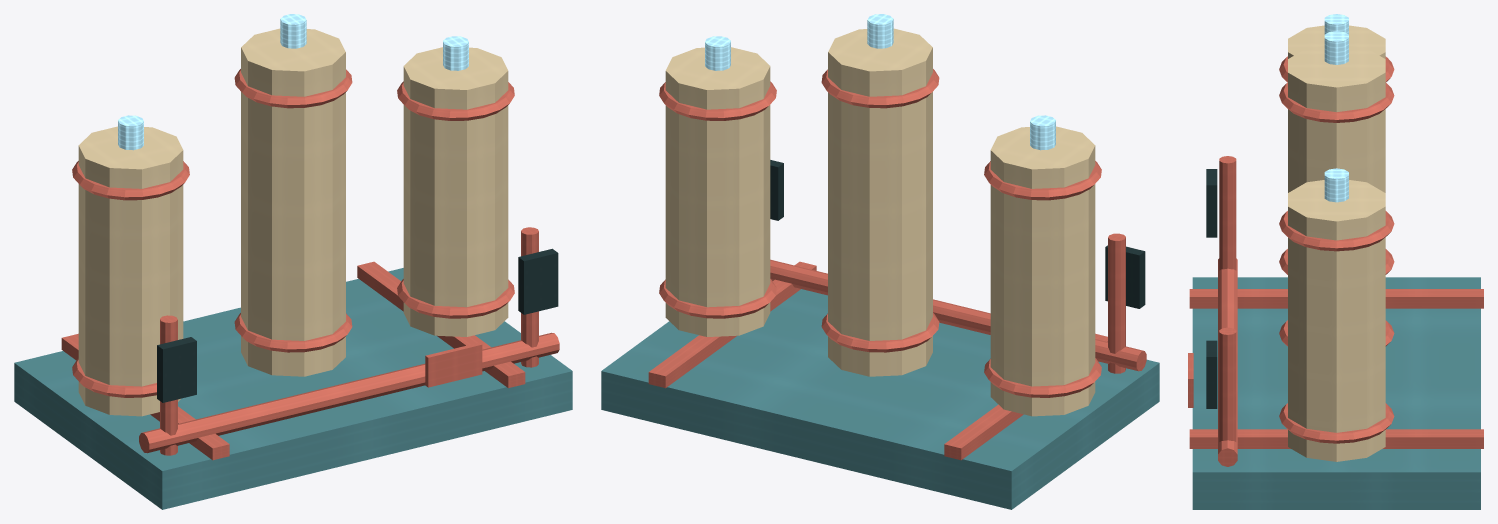
File: atlas100-s073-a02.lod1.glb
The picture shows the model from 3 angles, left to right: view 1: azimuth 30°, elevation 25°; view 2: azimuth 150°, elevation 25°; view 3: azimuth 270°, elevation 25°; orthographic projection. The views are drawn at different scales.
Parts seen in each view (by area): view 1: atlas100-s073-a02:part-000, atlas100-s073-a02:part-007, atlas100-s073-a02:part-011, atlas100-s073-a02:part-003, atlas100-s073-a02:part-019, atlas100-s073-a02:part-018, atlas100-s073-a02:part-016, atlas100-s073-a02:part-002, atlas100-s073-a02:part-020, atlas100-s073-a02:part-005, atlas100-s073-a02:part-012, atlas100-s073-a02:part-008 (+9 smaller); view 2: atlas100-s073-a02:part-000, atlas100-s073-a02:part-007, atlas100-s073-a02:part-011, atlas100-s073-a02:part-003, atlas100-s073-a02:part-019, atlas100-s073-a02:part-002, atlas100-s073-a02:part-015, atlas100-s073-a02:part-001, atlas100-s073-a02:part-005, atlas100-s073-a02:part-012, atlas100-s073-a02:part-004, atlas100-s073-a02:part-008 (+7 smaller); view 3: atlas100-s073-a02:part-000, atlas100-s073-a02:part-011, atlas100-s073-a02:part-007, atlas100-s073-a02:part-002, atlas100-s073-a02:part-001, atlas100-s073-a02:part-019, atlas100-s073-a02:part-015, atlas100-s073-a02:part-017, atlas100-s073-a02:part-003, atlas100-s073-a02:part-013, atlas100-s073-a02:part-012, atlas100-s073-a02:part-009 (+5 smaller).
Boxes of the visible parts, x1,y1,x2,y2 form: atlas100-s073-a02:part-000: (14,268,572,509); atlas100-s073-a02:part-007: (241,28,345,376); atlas100-s073-a02:part-011: (403,47,508,336); atlas100-s073-a02:part-003: (78,126,183,416); atlas100-s073-a02:part-019: (139,332,559,453); atlas100-s073-a02:part-018: (518,248,558,314); atlas100-s073-a02:part-016: (157,337,196,402); atlas100-s073-a02:part-002: (357,261,525,388); atlas100-s073-a02:part-020: (425,342,482,387); atlas100-s073-a02:part-005: (72,161,189,200); atlas100-s073-a02:part-012: (397,279,514,318); atlas100-s073-a02:part-008: (234,313,352,352); atlas100-s073-a02:part-000: (601,289,1159,509); atlas100-s073-a02:part-007: (828,28,932,376); atlas100-s073-a02:part-011: (665,47,770,336); atlas100-s073-a02:part-003: (990,126,1095,416); atlas100-s073-a02:part-019: (770,259,1146,371); atlas100-s073-a02:part-002: (648,261,816,388); atlas100-s073-a02:part-015: (1108,233,1125,373); atlas100-s073-a02:part-001: (944,333,1107,460); atlas100-s073-a02:part-005: (984,161,1101,200); atlas100-s073-a02:part-012: (659,279,776,318); atlas100-s073-a02:part-004: (984,358,1101,397); atlas100-s073-a02:part-008: (821,313,939,352); atlas100-s073-a02:part-000: (1192,277,1480,509); atlas100-s073-a02:part-011: (1288,180,1385,461); atlas100-s073-a02:part-007: (1288,46,1385,192); atlas100-s073-a02:part-002: (1189,429,1483,448); atlas100-s073-a02:part-001: (1189,289,1483,308); atlas100-s073-a02:part-019: (1218,258,1237,466); atlas100-s073-a02:part-015: (1219,156,1236,270); atlas100-s073-a02:part-017: (1219,327,1236,441); atlas100-s073-a02:part-003: (1288,25,1385,58); atlas100-s073-a02:part-013: (1279,211,1394,251); atlas100-s073-a02:part-012: (1279,403,1394,443); atlas100-s073-a02:part-009: (1279,82,1394,122).
Size of the model in its own units: 3 by 2.59 by 1.85.
5 materials, 5 textured.
